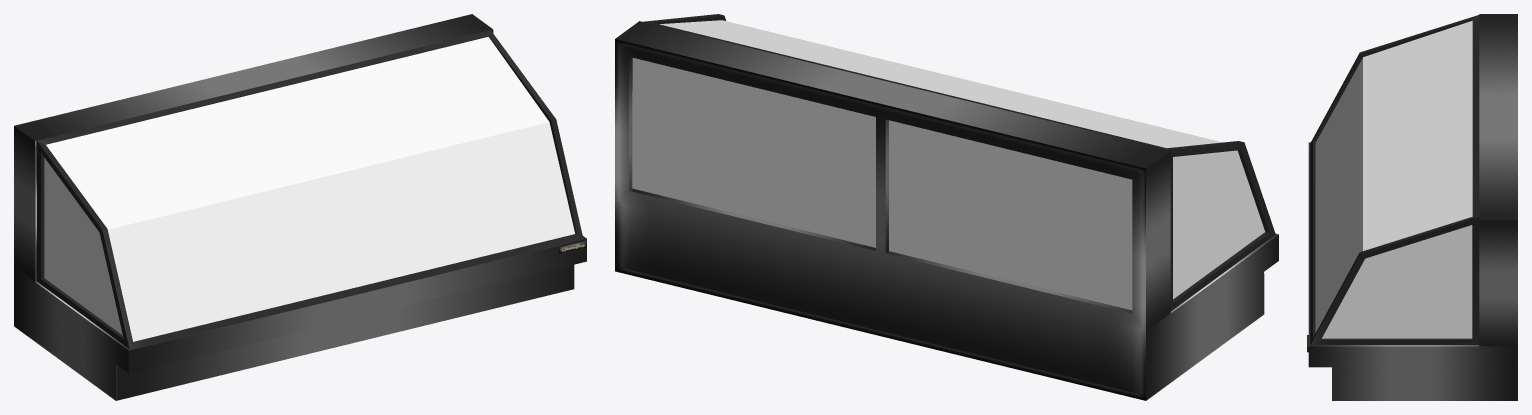
Rendered from Display_Case_B.FBX.
3 views of the same model, side by side, from view 1: azimuth 30°, elevation 25°; view 2: azimuth 150°, elevation 25°; view 3: azimuth 270°, elevation 25° (orthographic). The views are drawn at different scales.
Parts seen in each view (by area): view 1: Glass001, Display_case001; view 2: Display_case001, Glass_Door_B001, Glass_Door_A001, Glass001; view 3: Glass001, Display_case001.
Part boxes in pixels (x1,y1,x2,y2): Glass001: [37, 30, 583, 349]; Display_case001: [14, 14, 586, 400]; Display_case001: [615, 21, 1278, 400]; Glass_Door_B001: [632, 58, 875, 247]; Glass_Door_A001: [889, 120, 1132, 310]; Glass001: [643, 14, 1275, 311]; Glass001: [1310, 15, 1479, 345]; Display_case001: [1307, 14, 1517, 400].
Bounding box in the file's own units: 519 × 217 × 227.
